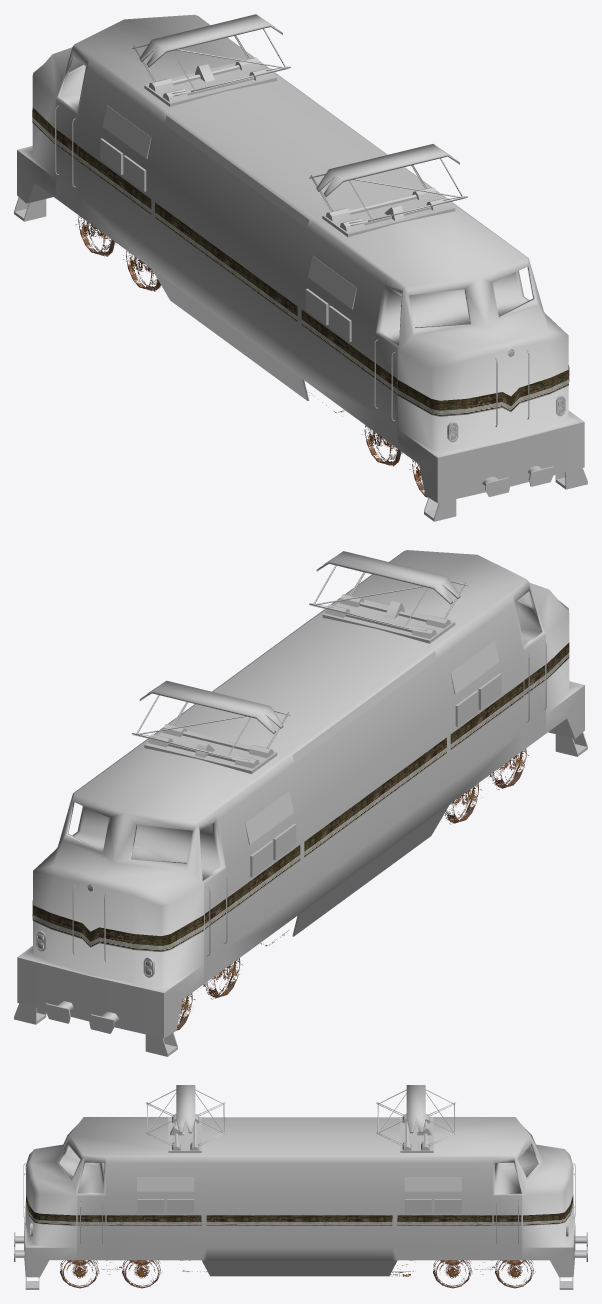
Rendered from Model_Trains_Locomotive_Transport.fbx.
3 views of the same model, one above another, from view 1: azimuth 30°, elevation 25°; view 2: azimuth 150°, elevation 25°; view 3: azimuth 270°, elevation 25° (orthographic). The views are drawn at different scales.
Parts seen in each view (by area): view 1: Carriage_LOD0; view 2: Carriage_LOD0; view 3: Carriage_LOD0, B_F_L_LOD0, F_B_L_LOD0, B_B_L_LOD0, F_F_L_LOD0.
Boxes of the visible parts, bbox=[...] form: Carriage_LOD0: bbox=[14, 14, 587, 521]; Carriage_LOD0: bbox=[14, 550, 587, 1056]; Carriage_LOD0: bbox=[14, 1085, 587, 1289]; B_F_L_LOD0: bbox=[433, 1260, 472, 1288]; F_B_L_LOD0: bbox=[122, 1260, 160, 1288]; B_B_L_LOD0: bbox=[495, 1260, 534, 1288]; F_F_L_LOD0: bbox=[60, 1260, 99, 1288].
Size of what is drawn, in the model's own units: 284 by 474 by 1406.
